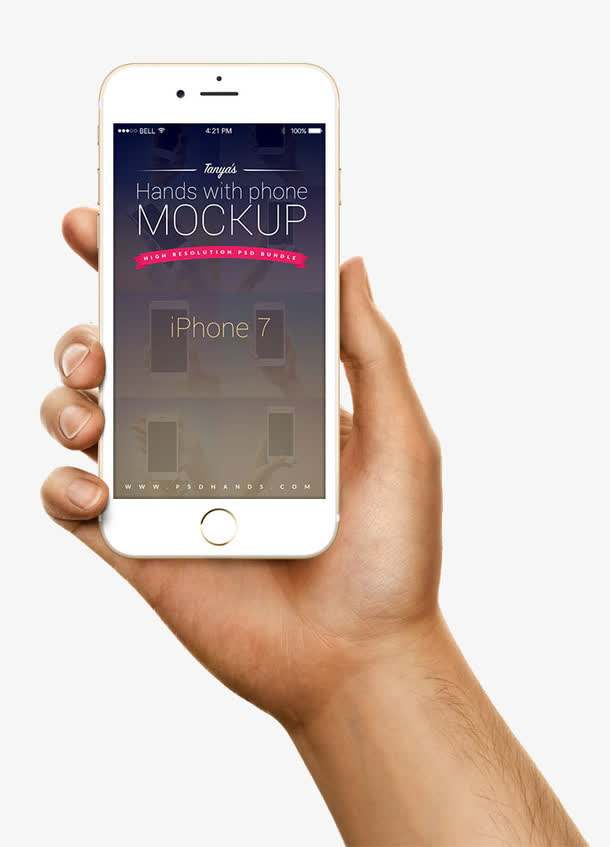phone: (29, 51, 447, 684)
